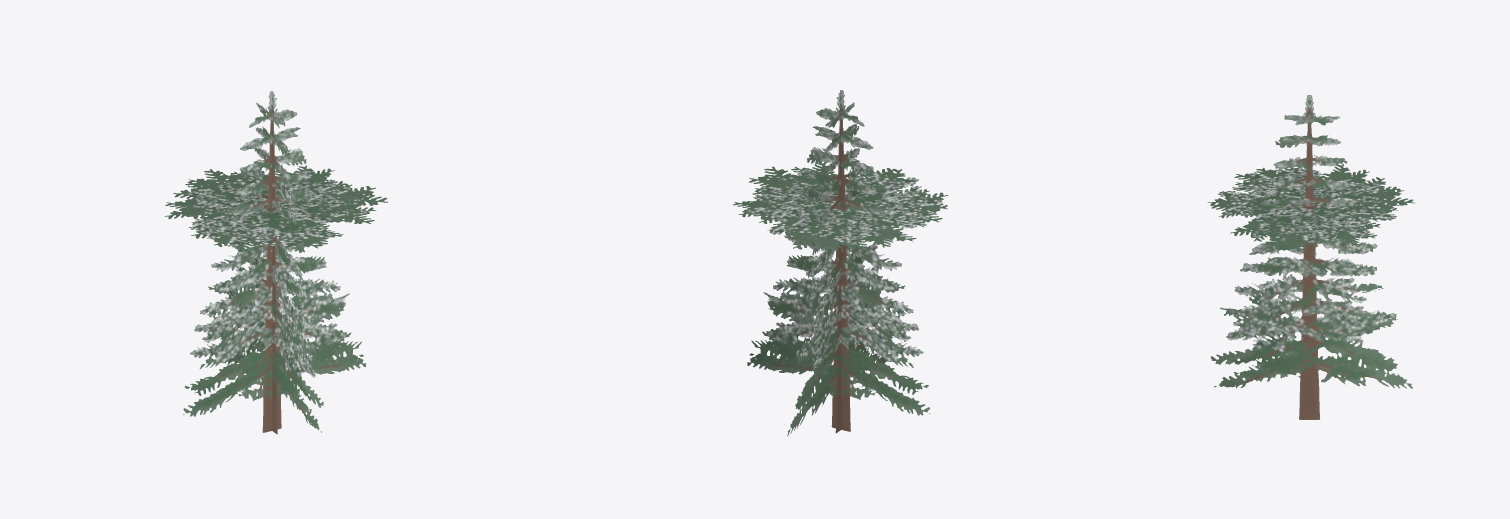
File: snow_pine_1_far.glb
The picture shows the model from 3 angles, left to right: view 1: azimuth 30°, elevation 25°; view 2: azimuth 150°, elevation 25°; view 3: azimuth 270°, elevation 25°; orthographic projection. The views are drawn at different scales.
Visible parts, largest first — view 1: snow_pine_1_far; view 2: snow_pine_1_far; view 3: snow_pine_1_far.
Part boxes in pixels (bbox=[...]): snow_pine_1_far: bbox=[164, 91, 387, 434]; snow_pine_1_far: bbox=[733, 90, 948, 436]; snow_pine_1_far: bbox=[1207, 95, 1414, 419].
Bounding box in the file's own units: 10.64 × 10.64 × 10.64.
Materials: 1 (1 with a texture image).
